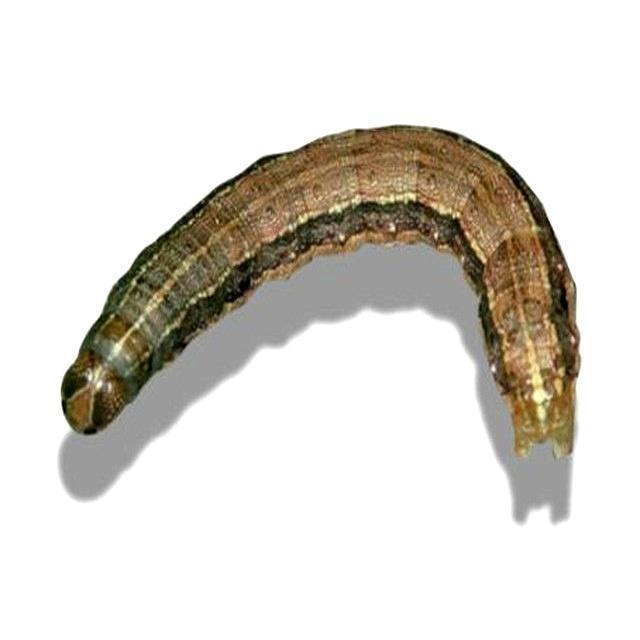gusano_cogollero: (57, 118, 588, 465)
